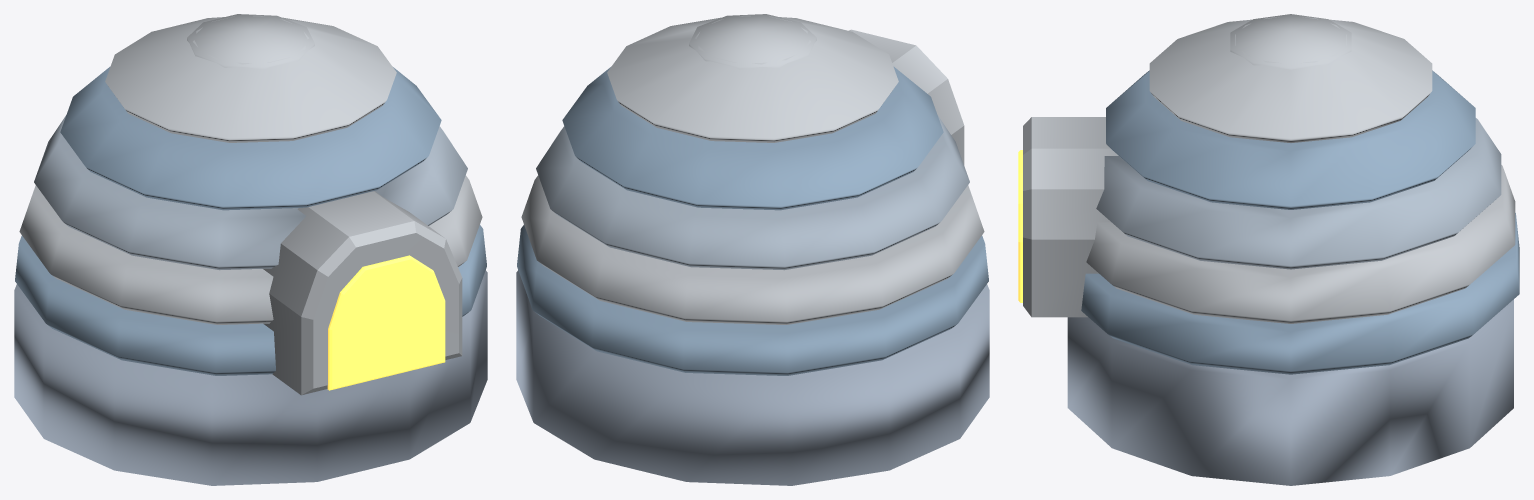
File: igloo.glb
3 renders of one model, left to right at view 1: azimuth 30°, elevation 25°; view 2: azimuth 150°, elevation 25°; view 3: azimuth 270°, elevation 25°, orthographic.
Visible parts, largest first — view 1: igloo; view 2: igloo; view 3: igloo.
Boxes of the visible parts, x1=… form: igloo: x1=14, y1=14, x2=487, y2=485; igloo: x1=516, y1=14, x2=989, y2=485; igloo: x1=1018, y1=14, x2=1519, y2=485.
Size of the model in its own units: 4.06 by 3.35 by 4.29.
